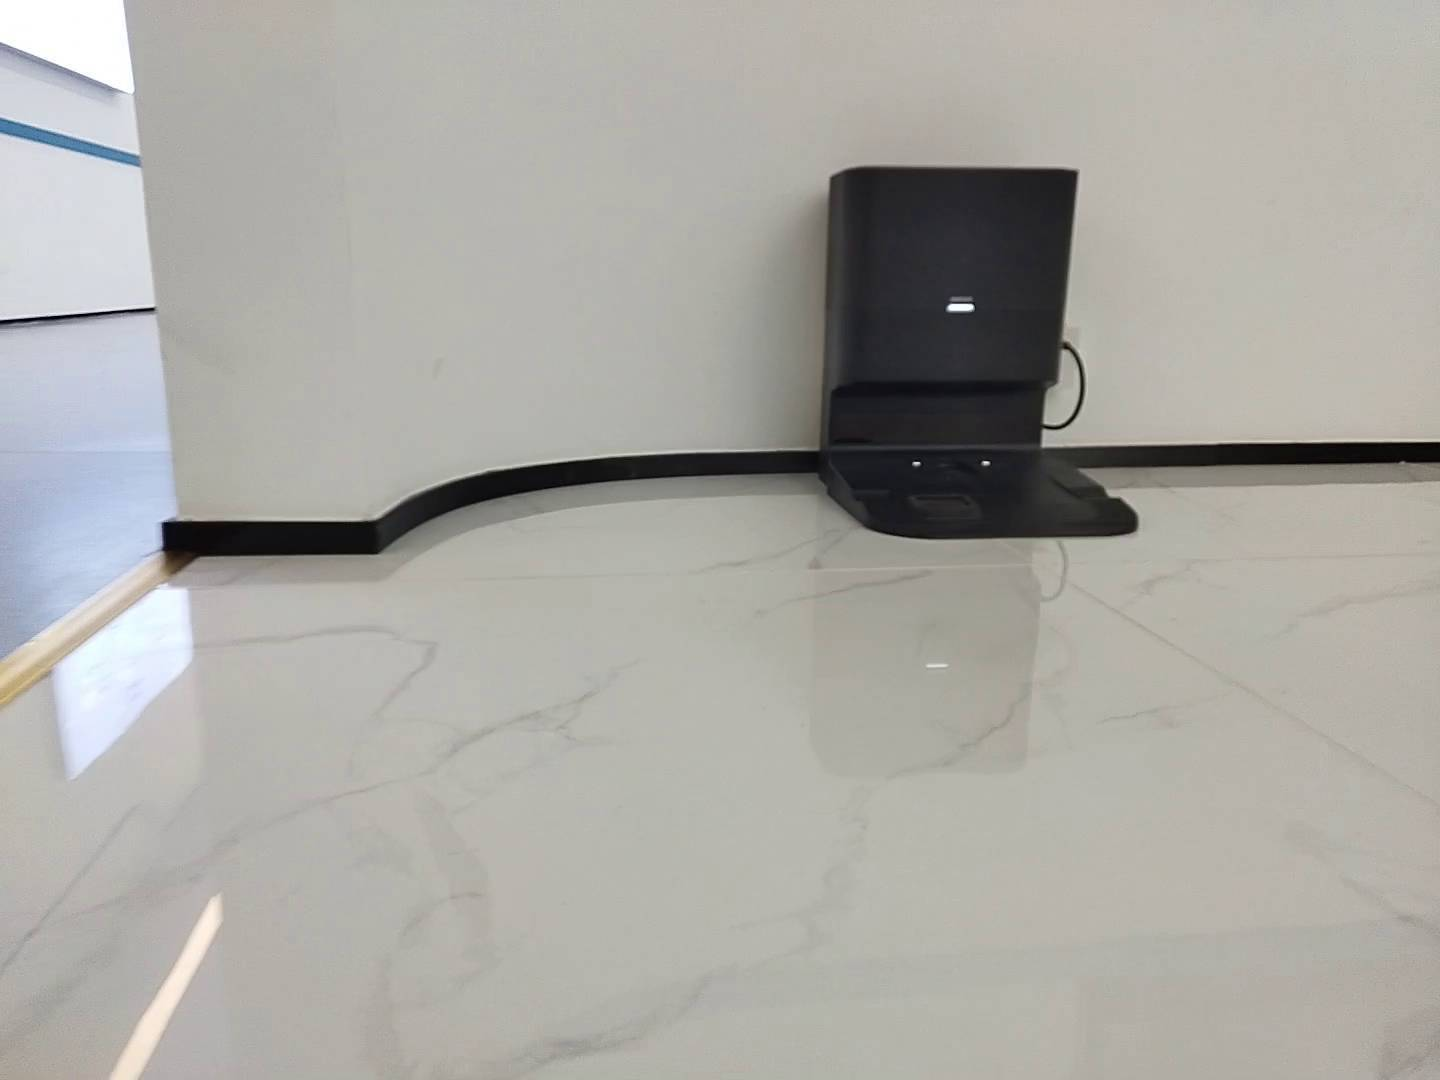dust collecting barrel: (819, 164, 1144, 541)
